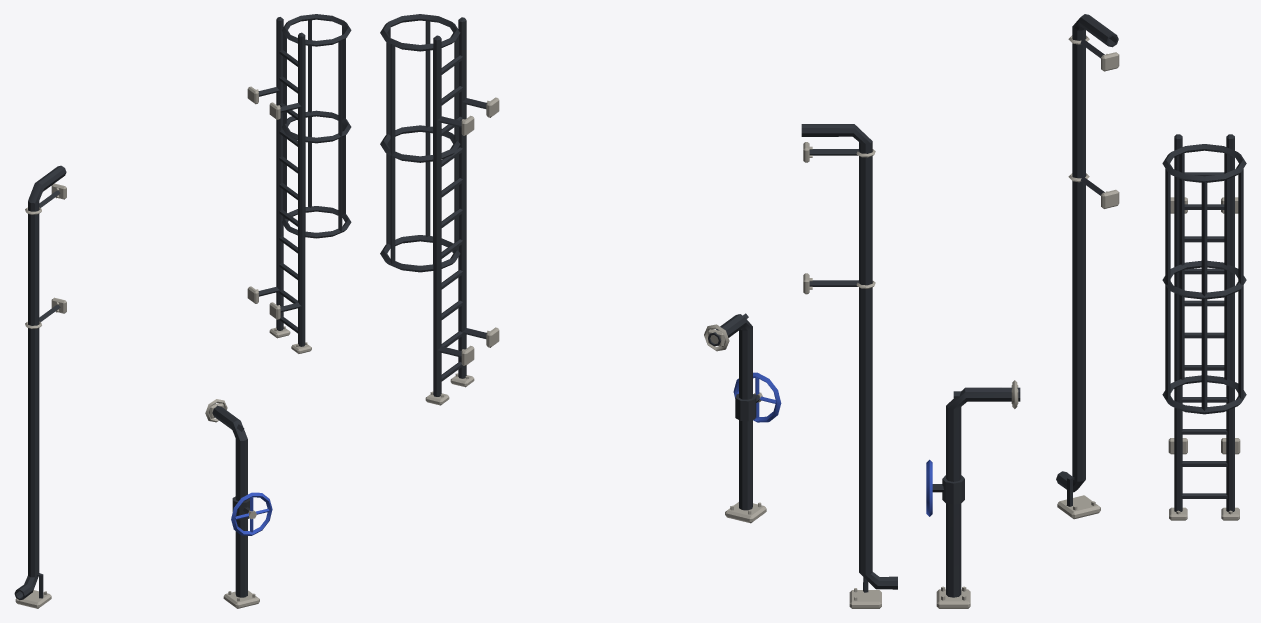
Rendered from TankParts.glb.
The picture shows the model from 3 angles, left to right: view 1: azimuth 30°, elevation 25°; view 2: azimuth 150°, elevation 25°; view 3: azimuth 270°, elevation 25°; orthographic projection. The views are drawn at different scales.
Visible parts, largest first — view 1: CagedLadder_Charcoal, OverflowPipe_Charcoal, ValveRun_Charcoal, CagedLadder_Metal, OverflowPipe_Metal, ValveRun_Accent, ValveRun_Metal; view 2: CagedLadder_Charcoal, OverflowPipe_Charcoal, ValveRun_Charcoal, CagedLadder_Metal, OverflowPipe_Metal, ValveRun_Metal, ValveRun_Accent; view 3: CagedLadder_Charcoal, OverflowPipe_Charcoal, ValveRun_Charcoal, OverflowPipe_Metal, CagedLadder_Metal, ValveRun_Metal.
Boxes of the visible parts, left/top/right/bottom form: CagedLadder_Charcoal: left=258, top=14, right=351, bottom=346; OverflowPipe_Charcoal: left=14, top=165, right=66, bottom=600; ValveRun_Charcoal: left=212, top=403, right=249, bottom=597; CagedLadder_Metal: left=247, top=86, right=311, bottom=353; OverflowPipe_Metal: left=15, top=183, right=66, bottom=608; ValveRun_Accent: left=231, top=492, right=272, bottom=535; ValveRun_Metal: left=205, top=399, right=259, bottom=608; CagedLadder_Charcoal: left=380, top=14, right=486, bottom=396; OverflowPipe_Charcoal: left=801, top=124, right=897, bottom=592; ValveRun_Charcoal: left=708, top=313, right=759, bottom=510; CagedLadder_Metal: left=425, top=97, right=499, bottom=405; OverflowPipe_Metal: left=803, top=142, right=881, bottom=608; ValveRun_Metal: left=704, top=324, right=766, bottom=523; ValveRun_Accent: left=733, top=372, right=781, bottom=422; CagedLadder_Charcoal: left=1162, top=134, right=1246, bottom=511; OverflowPipe_Charcoal: left=1056, top=14, right=1118, bottom=506; ValveRun_Charcoal: left=932, top=387, right=1020, bottom=597; OverflowPipe_Metal: left=1057, top=35, right=1119, bottom=519; CagedLadder_Metal: left=1168, top=197, right=1240, bottom=520; ValveRun_Metal: left=936, top=380, right=1018, bottom=608.
Size of the model in its own units: 12.83 by 14.6 by 7.6.
